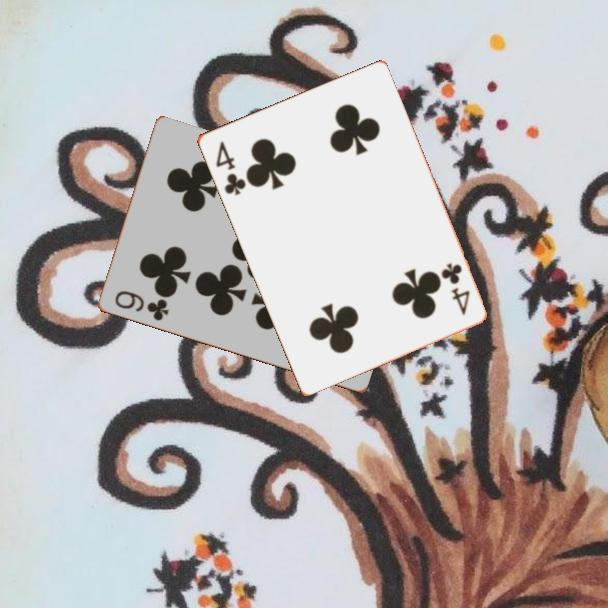c04: (212, 137, 248, 198), (438, 259, 473, 318)
c09: (111, 287, 171, 324)
